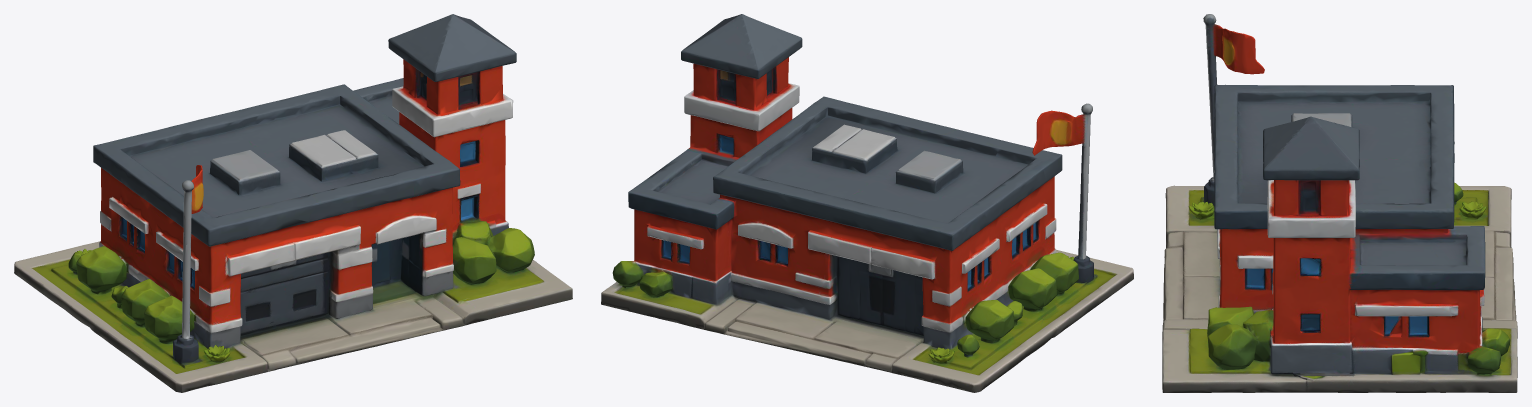
File: fire_station.glb
3 renders of one model, left to right at view 1: azimuth 30°, elevation 25°; view 2: azimuth 150°, elevation 25°; view 3: azimuth 270°, elevation 25°, orthographic. The views are drawn at different scales.
Visible parts, largest first — view 1: tripo_node_bcb43107-de1c-46ae-b9e5-077b87f87d5f; view 2: tripo_node_bcb43107-de1c-46ae-b9e5-077b87f87d5f; view 3: tripo_node_bcb43107-de1c-46ae-b9e5-077b87f87d5f.
Part boxes in pixels (bbox=[...]): tripo_node_bcb43107-de1c-46ae-b9e5-077b87f87d5f: bbox=[14, 14, 572, 392]; tripo_node_bcb43107-de1c-46ae-b9e5-077b87f87d5f: bbox=[601, 14, 1133, 392]; tripo_node_bcb43107-de1c-46ae-b9e5-077b87f87d5f: bbox=[1162, 14, 1517, 392].
Bounding box in the file's own units: 1 × 0.5931 × 0.7578.
Materials: 1 (1 with a texture image).
